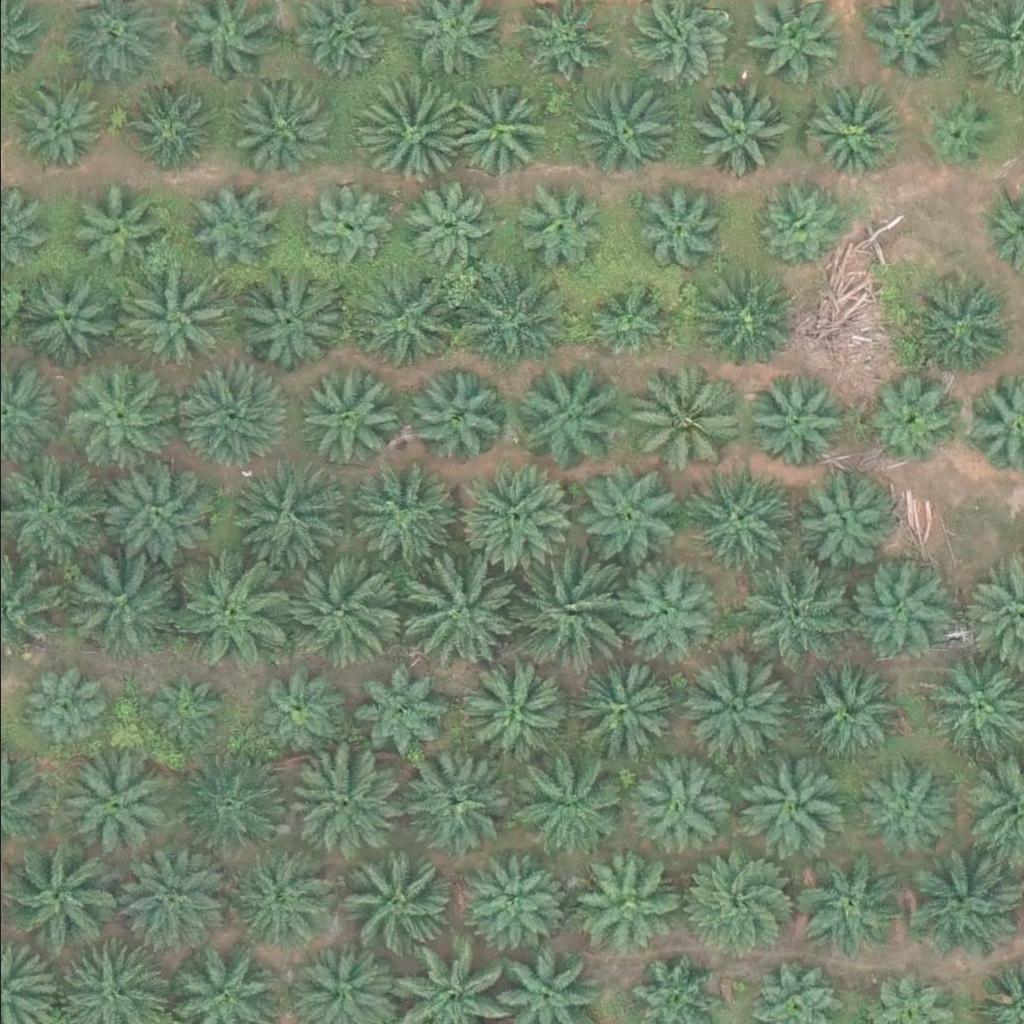Kelapa_Sawit: (390, 743, 504, 856), (233, 461, 347, 574), (338, 846, 451, 959), (508, 551, 621, 664), (279, 560, 392, 673), (98, 454, 211, 567), (344, 461, 457, 574), (507, 358, 620, 471), (172, 360, 285, 473), (110, 266, 223, 379), (352, 264, 465, 377), (452, 265, 565, 378), (687, 841, 800, 954), (730, 748, 843, 861), (686, 459, 799, 572), (173, 555, 287, 667), (352, 75, 466, 187), (908, 846, 1022, 958), (7, 841, 120, 953), (116, 837, 229, 949), (509, 750, 622, 862), (277, 751, 390, 863), (175, 750, 288, 862), (56, 751, 169, 863), (456, 656, 569, 768), (396, 557, 509, 669), (64, 546, 177, 658), (460, 460, 573, 572), (681, 654, 794, 766), (736, 558, 849, 670), (846, 552, 959, 664), (623, 368, 736, 480), (223, 852, 324, 952), (460, 858, 561, 958), (346, 663, 447, 763), (401, 363, 502, 463), (297, 371, 398, 471), (60, 367, 161, 467), (16, 263, 117, 363), (233, 274, 334, 374), (8, 73, 109, 173), (441, 86, 542, 186), (578, 847, 679, 947), (629, 756, 730, 856), (858, 755, 959, 855), (795, 658, 896, 758), (567, 653, 668, 753), (612, 562, 713, 662), (791, 469, 892, 569), (577, 462, 678, 562), (743, 374, 844, 474), (908, 273, 1009, 373), (231, 74, 331, 174), (797, 852, 897, 952), (690, 268, 790, 368), (801, 82, 901, 182), (688, 82, 788, 182), (573, 81, 673, 181), (510, 177, 598, 265), (398, 181, 486, 269), (72, 186, 160, 274), (127, 79, 215, 167), (589, 277, 677, 365), (22, 664, 110, 751), (255, 675, 343, 762), (301, 183, 389, 270), (182, 184, 270, 271), (869, 377, 957, 464), (635, 184, 723, 271), (758, 181, 846, 268), (921, 95, 997, 170), (144, 673, 220, 748)
